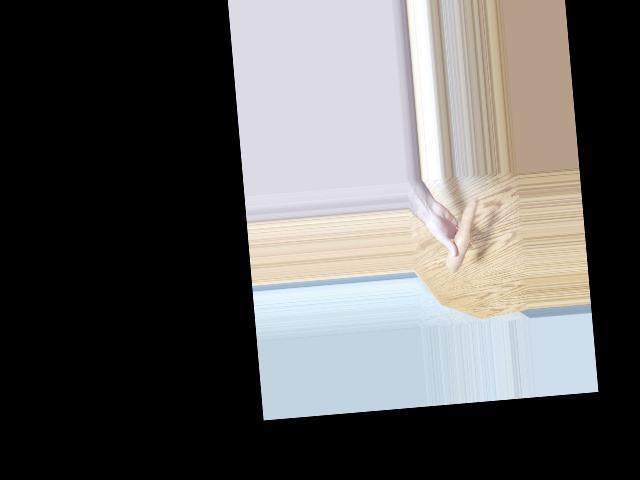sweet_potato: (448, 197, 479, 275)
